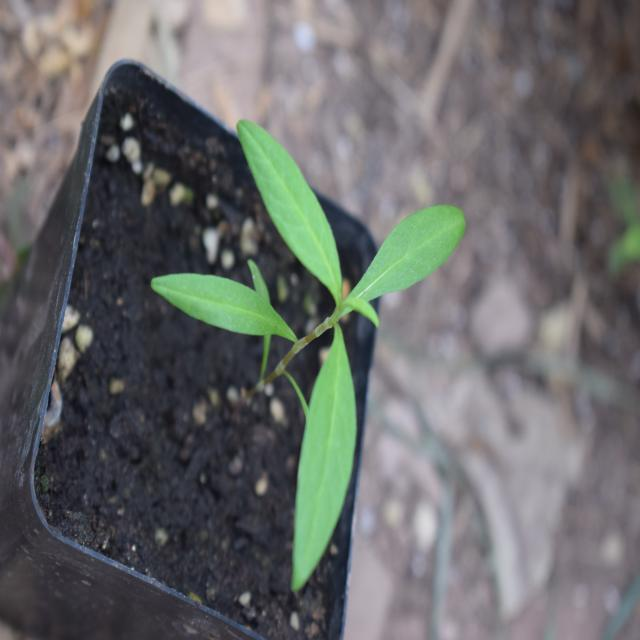white_smart_weed: (125, 82, 473, 597)
